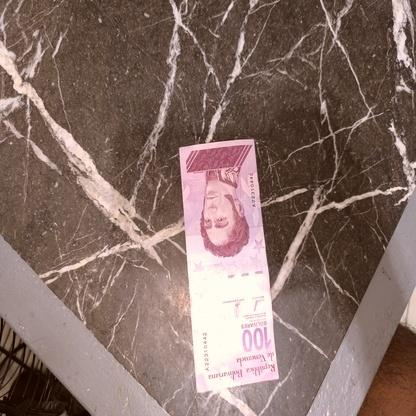vef_front: (178, 138, 279, 392)
